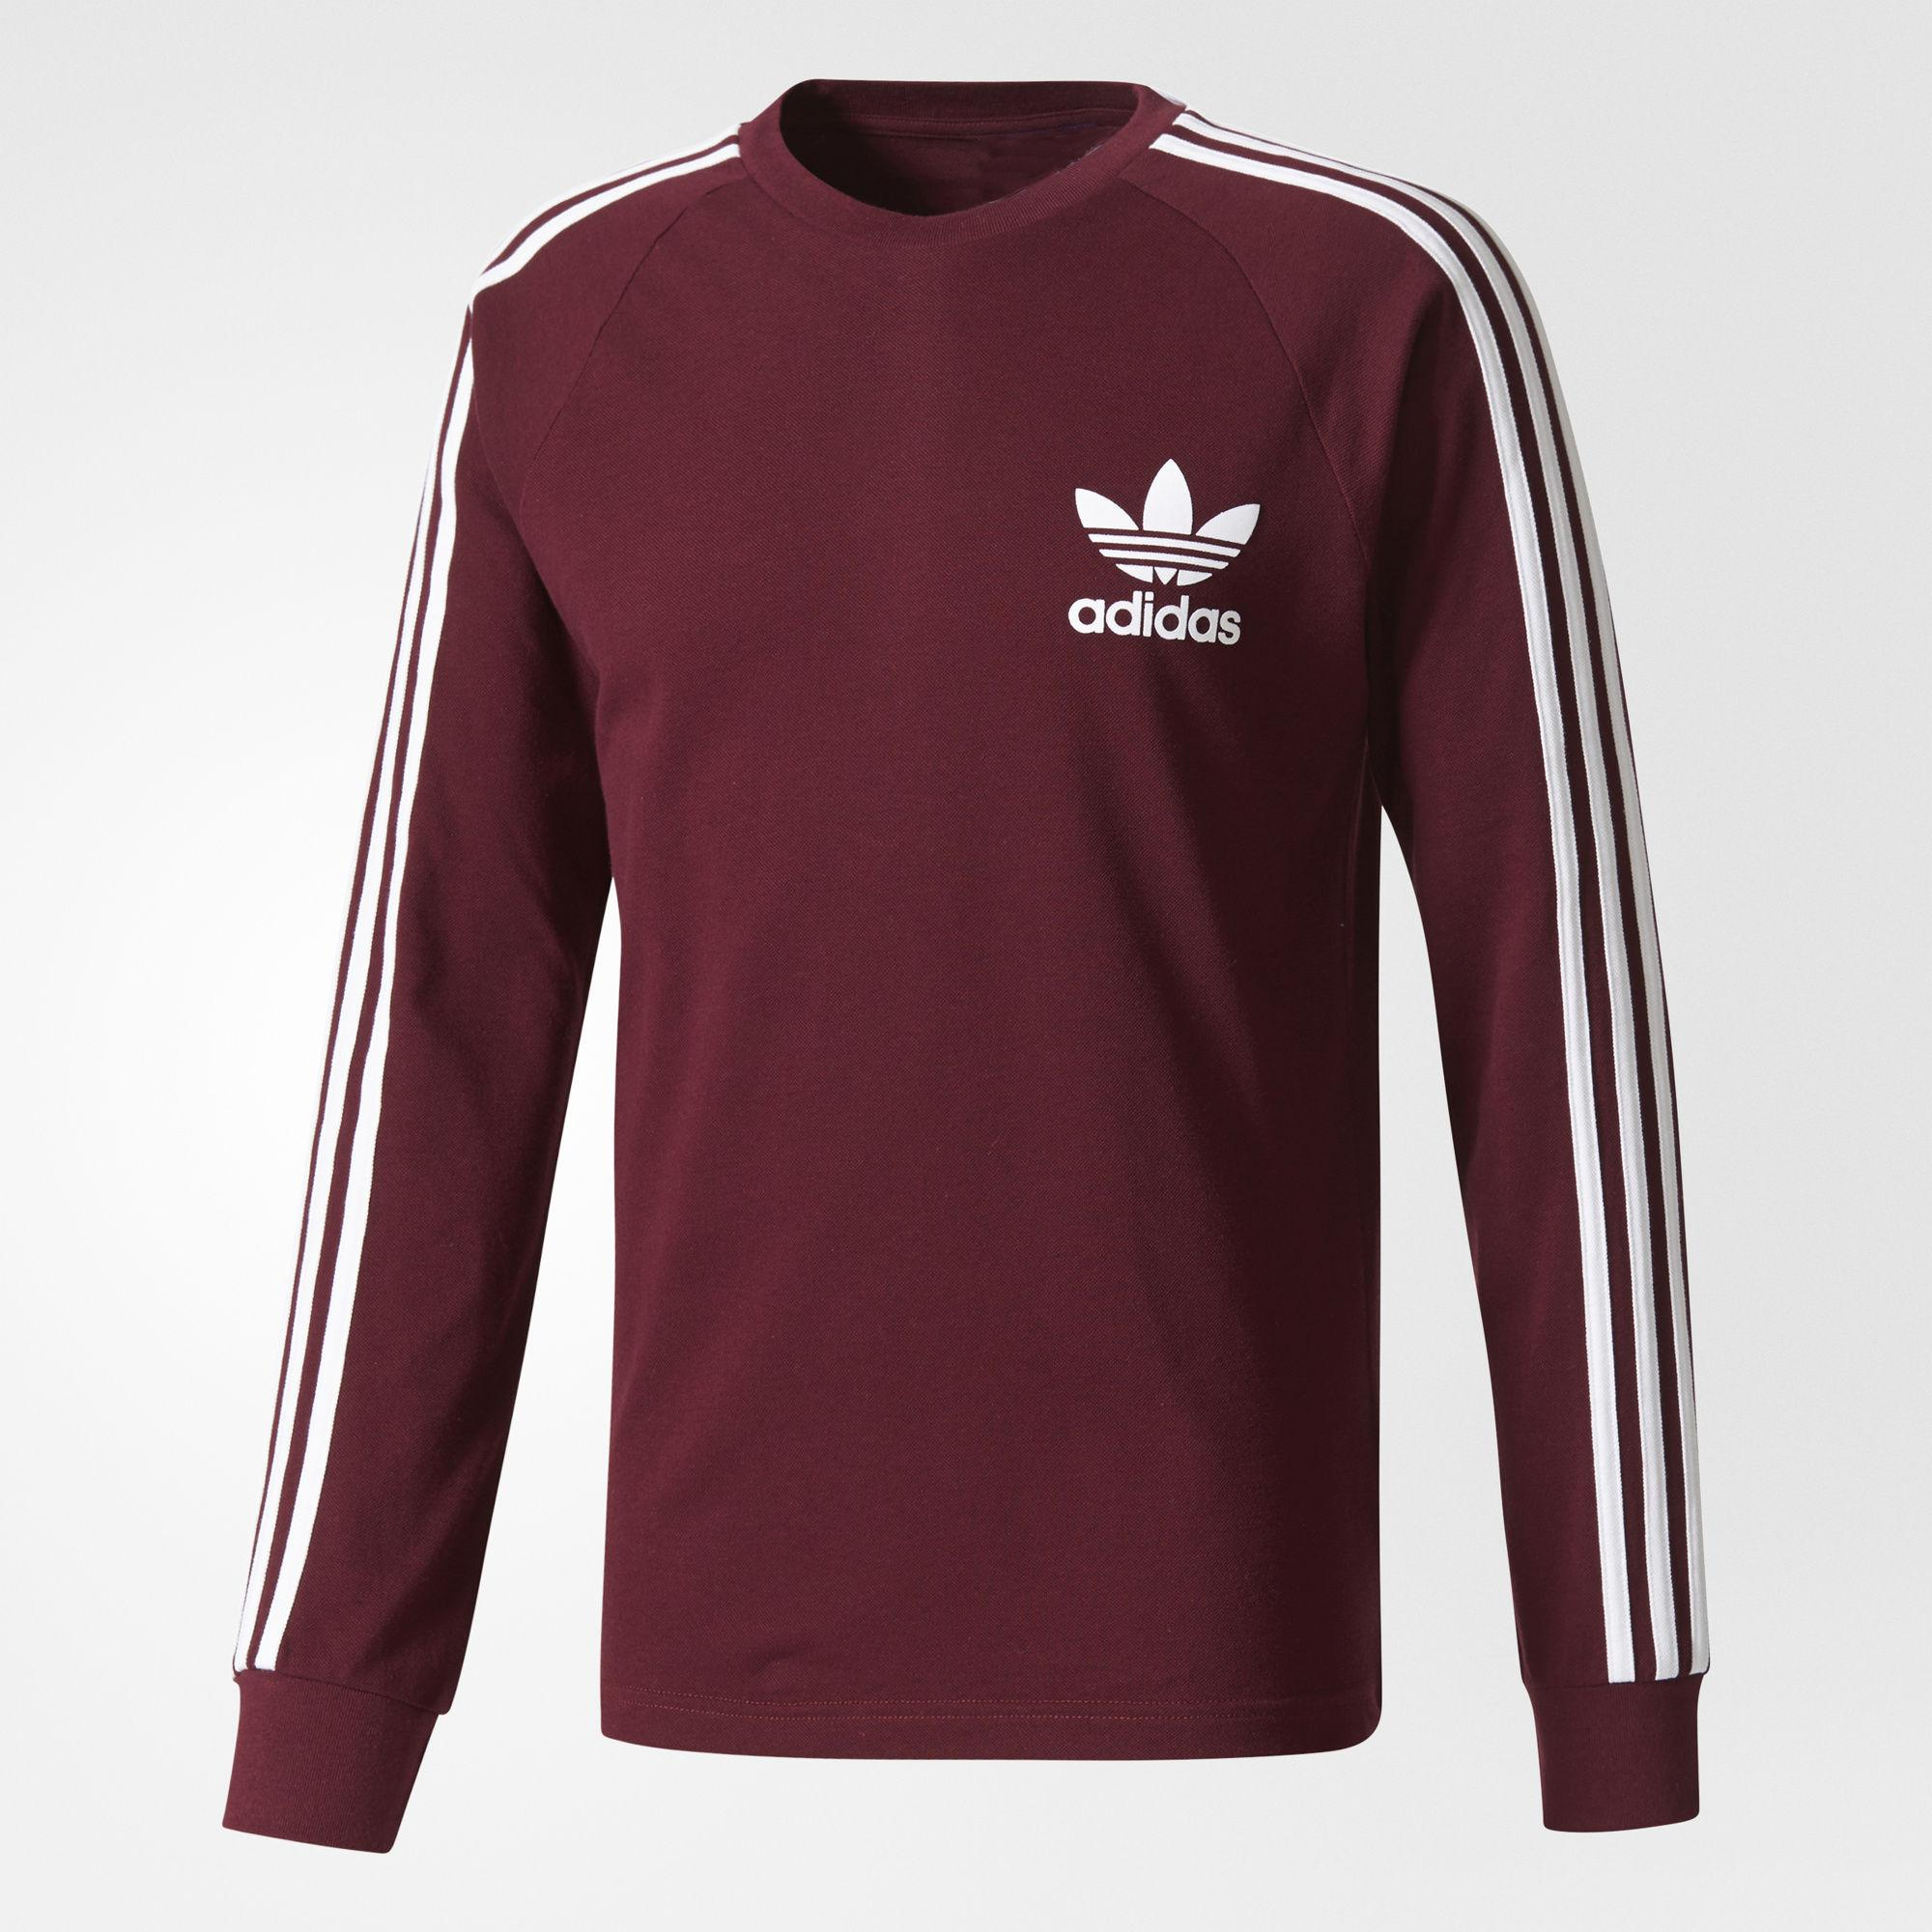teeshirt: (172, 110, 1787, 1916)
